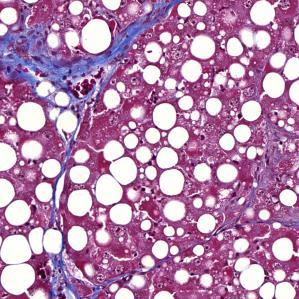fibrosis: (6, 37, 104, 92)
